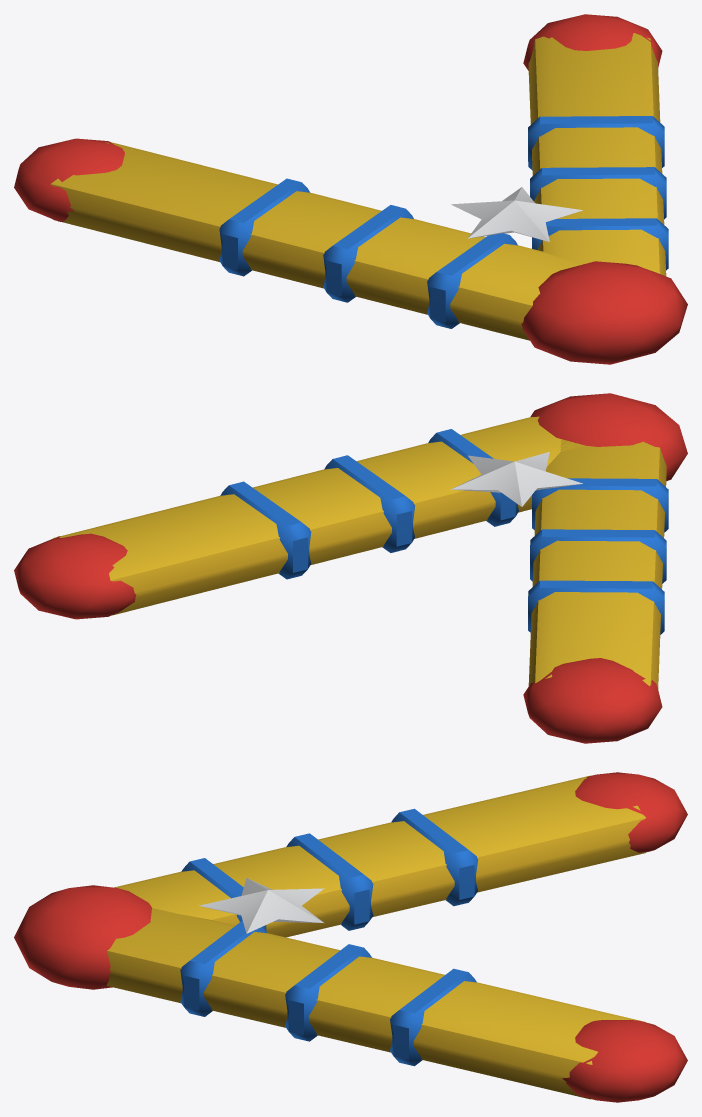
The model's file is w_j_boomerang.glb.
3 renders of one model, top to bottom at view 1: azimuth 30°, elevation 25°; view 2: azimuth 150°, elevation 25°; view 3: azimuth 270°, elevation 25°, orthographic.
Visible parts, largest first — view 1: body; view 2: body; view 3: body.
Part boxes in pixels (x1,y1,x2,y2): body: (14, 14, 687, 364); body: (14, 393, 687, 743); body: (14, 772, 687, 1102).
Bounding box in the file's own units: 0.3075 × 0.0413 × 0.2893.
